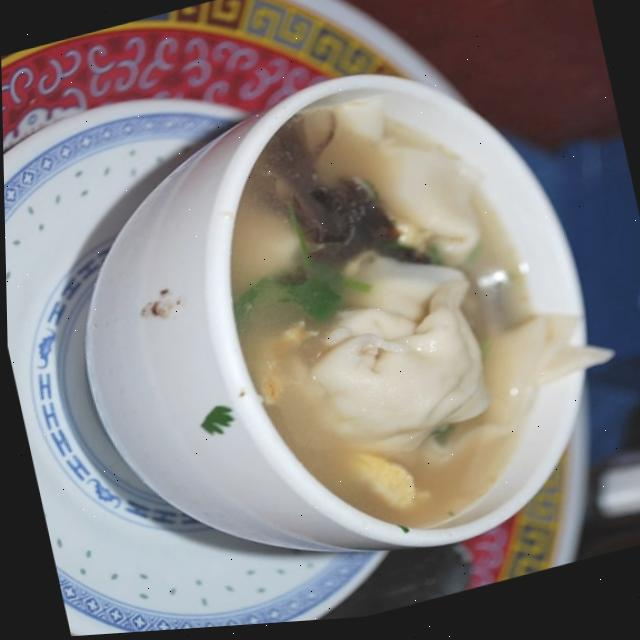汤锅炖物: (7, 21, 640, 640)
